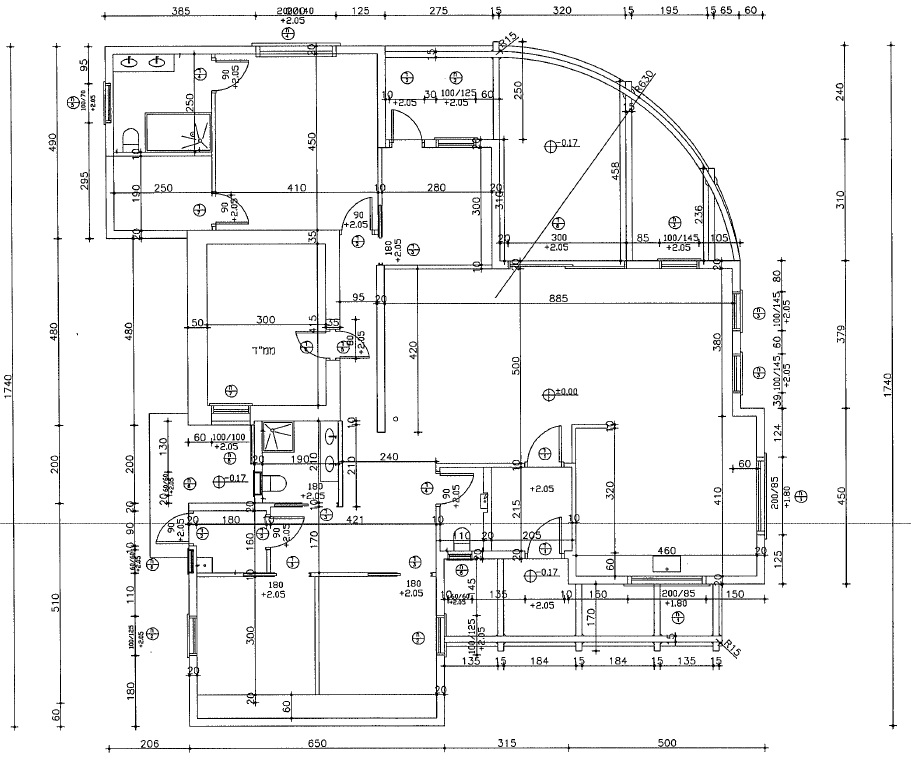door: (218, 183, 259, 227), (346, 326, 372, 368), (446, 470, 476, 505), (344, 193, 375, 224), (389, 106, 422, 135), (532, 423, 566, 447), (154, 516, 180, 547), (288, 327, 312, 357)
window: (752, 455, 771, 536), (627, 572, 708, 588), (658, 254, 701, 275), (99, 82, 120, 122), (727, 288, 746, 331), (432, 614, 450, 656), (210, 399, 252, 417), (729, 351, 745, 394)
